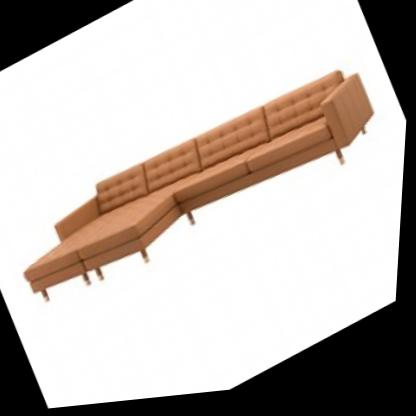Sofa: (0, 34, 402, 347)
